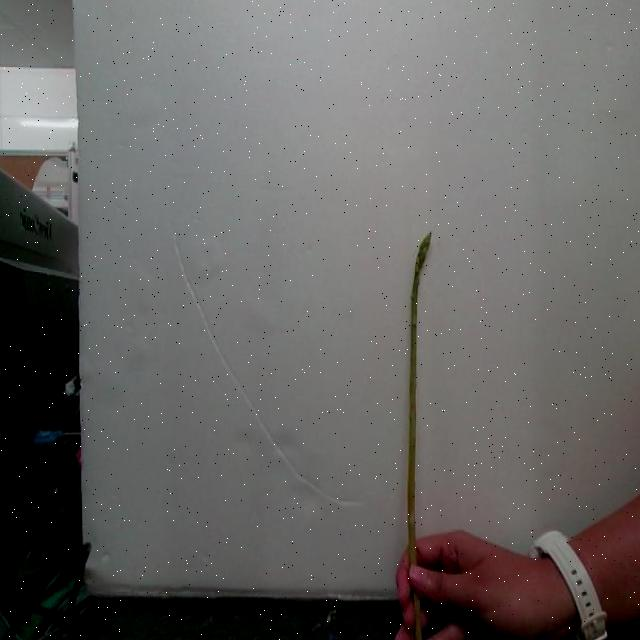aspargus: (407, 234, 432, 640)
